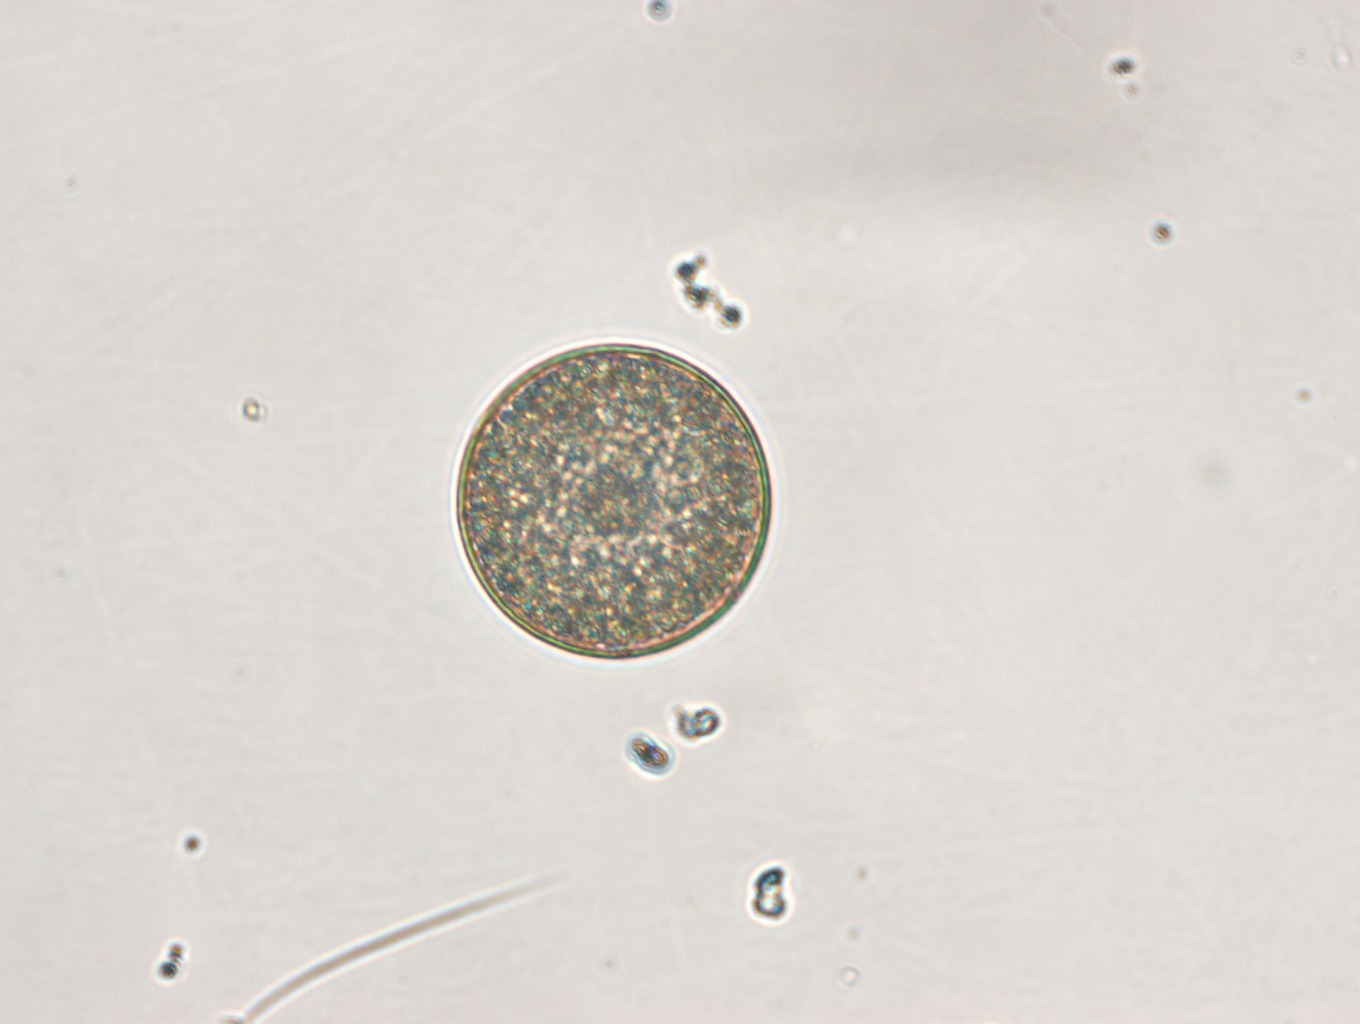coscinodiscus: (454, 333, 778, 659)
